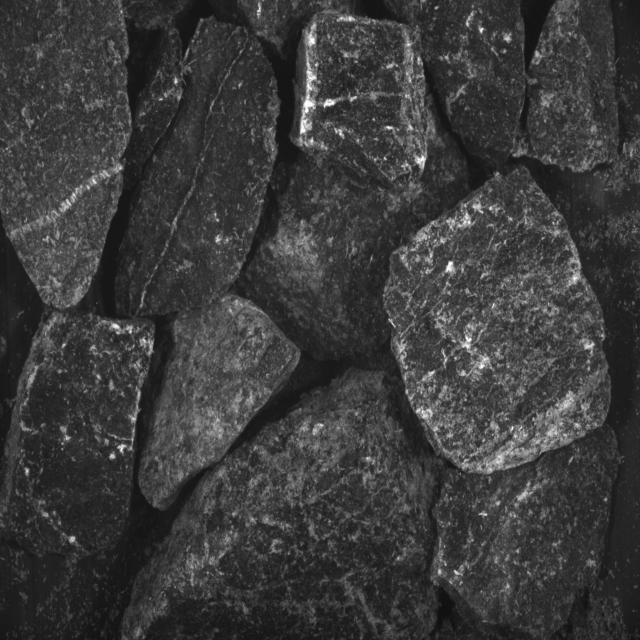Stones: (124, 371, 439, 640), (242, 14, 470, 360), (385, 169, 611, 474), (1, 313, 155, 639), (116, 18, 281, 317), (1, 1, 132, 309), (432, 427, 620, 639), (140, 295, 301, 510), (387, 1, 526, 167), (529, 1, 619, 173), (125, 28, 184, 191), (239, 1, 356, 61)
